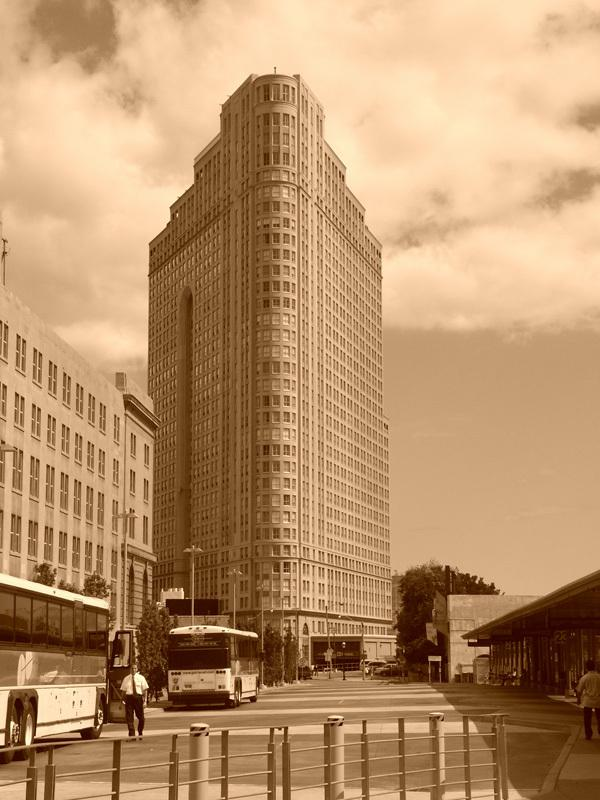building: (148, 61, 403, 701), (4, 249, 158, 709), (463, 569, 600, 713)
